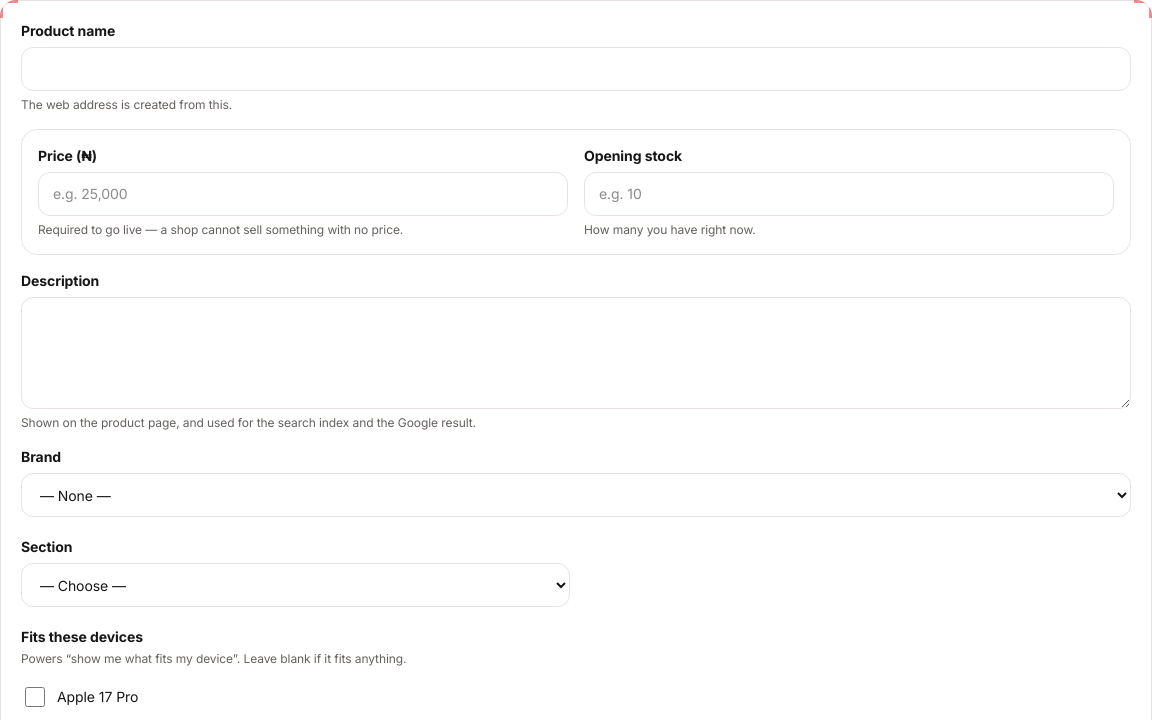
Test case: filing a product into a section › asks for a type instead, in a section that is not about devices
Step 1. Select "Accessories" in the dropdown labelled "Section" → (296,585), box [21,563,570,607]
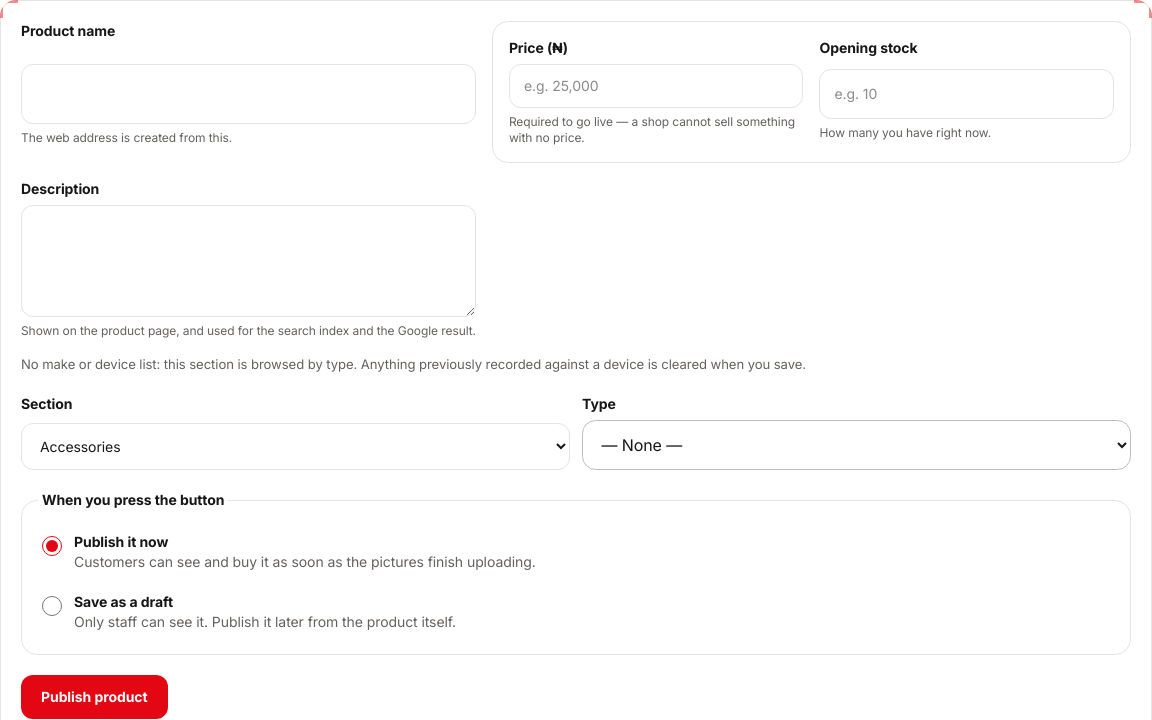
Result: the dropdown labelled "Type" is shown at [582,420,1131,470]
Result: the label labelled "Brand" is gone
Result: the text "Fits these devices" is gone
